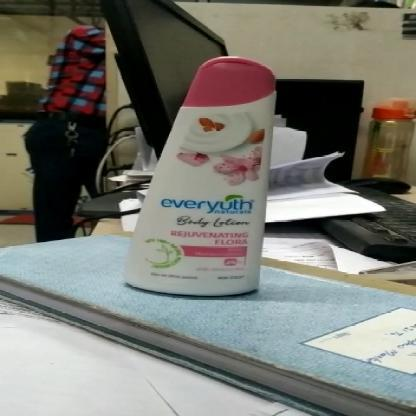Everyuth Naturals Body Lotion Rejuvenating Flora 200ml: (124, 54, 286, 300)
